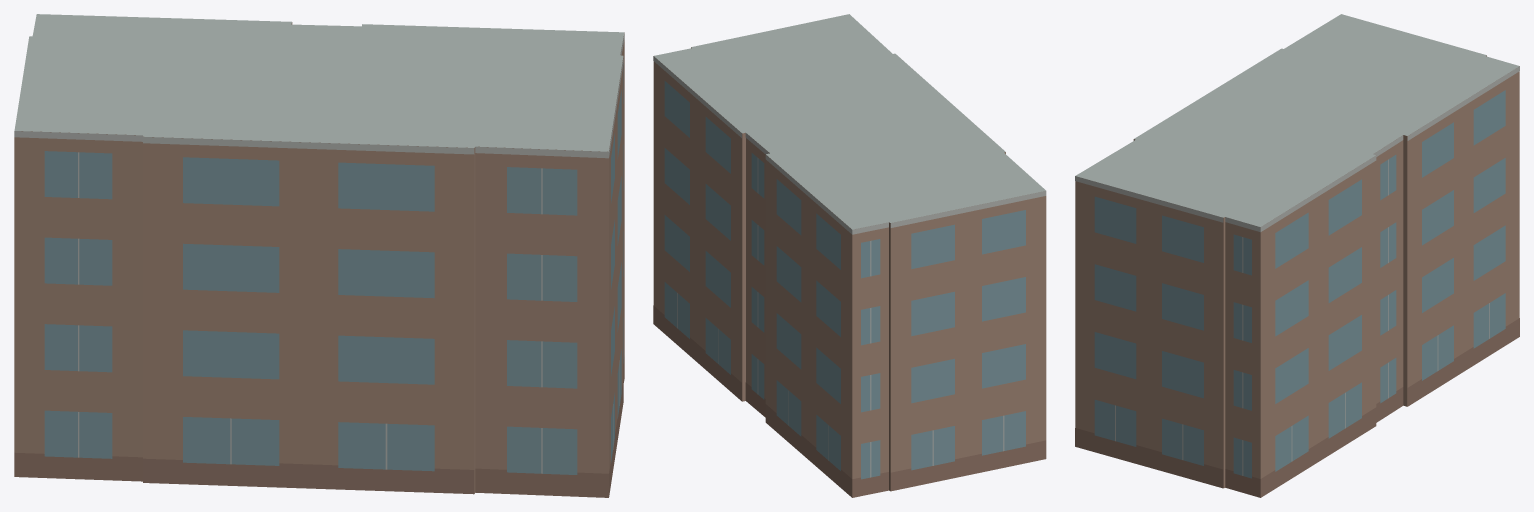
File: survey-upis-32997686.glb
The picture shows the model from 3 angles, left to right: view 1: azimuth 30°, elevation 25°; view 2: azimuth 150°, elevation 25°; view 3: azimuth 270°, elevation 25°; orthographic projection. The views are drawn at different scales.
Parts seen in each view (by area): view 1: survey-upis-32997686.tmp; view 2: survey-upis-32997686.tmp; view 3: survey-upis-32997686.tmp.
Part boxes in pixels (x1,y1,x2,y2): survey-upis-32997686.tmp: (14, 14, 624, 497); survey-upis-32997686.tmp: (653, 14, 1046, 497); survey-upis-32997686.tmp: (1075, 14, 1519, 497).
Size of the model in its own units: 21.96 by 13 by 19.36.
